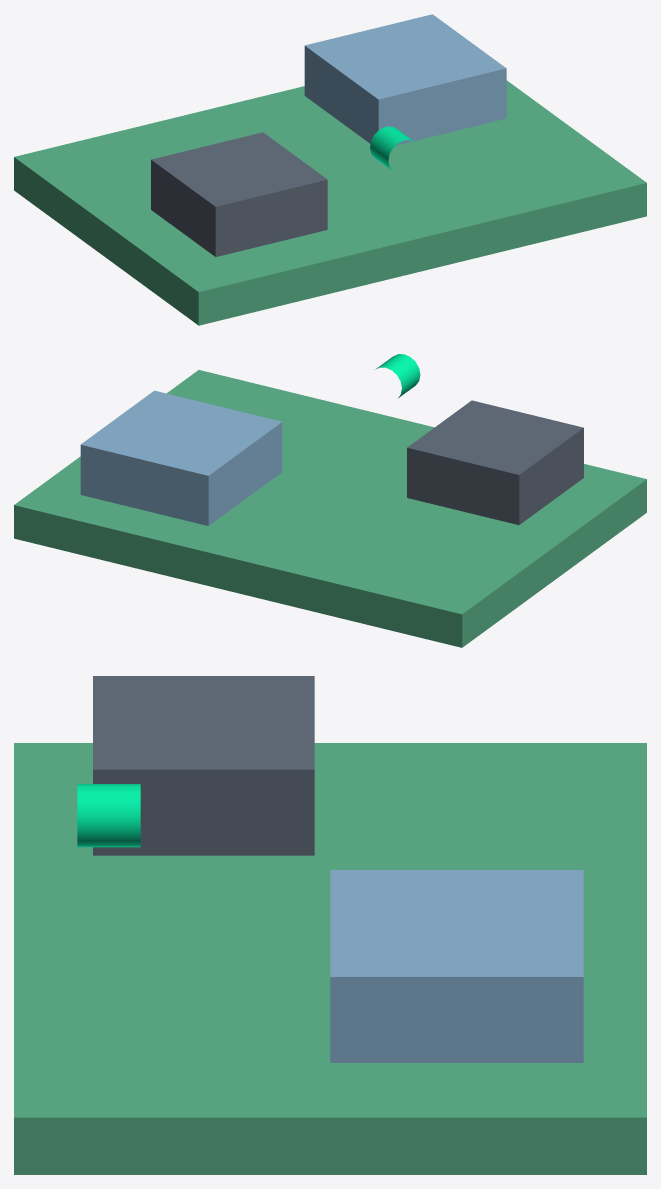
File: dsp_discrete_fourier_fft_fir.glb
The picture shows the model from 3 angles, top to bottom: view 1: azimuth 30°, elevation 25°; view 2: azimuth 150°, elevation 25°; view 3: azimuth 270°, elevation 25°; orthographic projection. The views are drawn at different scales.
Parts seen in each view (by area): view 1: TMS320C67xxDSPProcessorBoard, FlashMemoryFirmwareChip, StereoAudioCodecIC, LEDSpectrumBarIndicator; view 2: TMS320C67xxDSPProcessorBoard, FlashMemoryFirmwareChip, StereoAudioCodecIC, LEDSpectrumBarIndicator; view 3: TMS320C67xxDSPProcessorBoard, FlashMemoryFirmwareChip, StereoAudioCodecIC, LEDSpectrumBarIndicator.
Boxes of the visible parts, bbox=[...] form: TMS320C67xxDSPProcessorBoard: bbox=[14, 80, 646, 325]; FlashMemoryFirmwareChip: bbox=[304, 14, 506, 145]; StereoAudioCodecIC: bbox=[151, 132, 327, 256]; LEDSpectrumBarIndicator: bbox=[370, 126, 414, 170]; TMS320C67xxDSPProcessorBoard: bbox=[14, 370, 646, 647]; FlashMemoryFirmwareChip: bbox=[80, 390, 282, 525]; StereoAudioCodecIC: bbox=[407, 400, 583, 524]; LEDSpectrumBarIndicator: bbox=[375, 354, 420, 398]; TMS320C67xxDSPProcessorBoard: bbox=[14, 743, 646, 1174]; FlashMemoryFirmwareChip: bbox=[330, 870, 583, 1062]; StereoAudioCodecIC: bbox=[93, 676, 314, 855]; LEDSpectrumBarIndicator: bbox=[77, 784, 140, 847].
Bounding box in the file's own units: 1.4 × 0.35 × 1.
